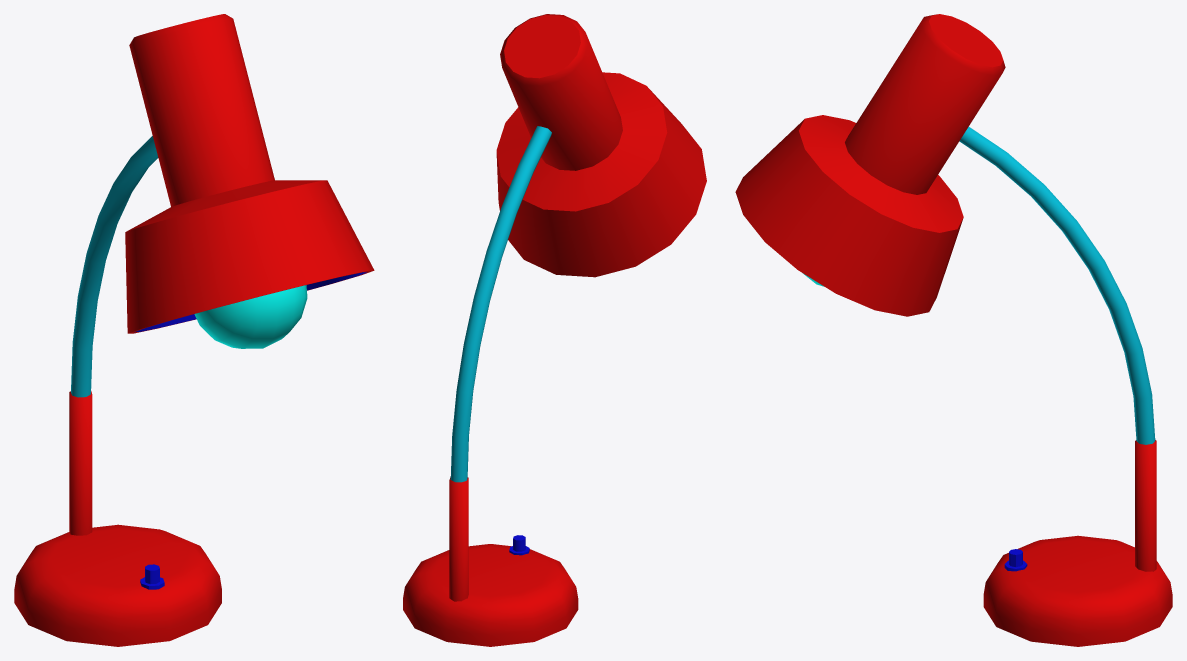
Rendered from desk_lamp.FBX.
3 renders of one model, left to right at view 1: azimuth 30°, elevation 25°; view 2: azimuth 150°, elevation 25°; view 3: azimuth 270°, elevation 25°, orthographic. The views are drawn at different scales.
Visible parts, largest first — view 1: Cylinder001, Light_Bulb001; view 2: Cylinder001; view 3: Cylinder001.
Boxes of the visible parts, <box> form: Cylinder001: <box>14,14,374,646</box>; Light_Bulb001: <box>194,285,307,348</box>; Cylinder001: <box>403,14,706,646</box>; Cylinder001: <box>735,14,1172,646</box>.
Bounding box in the file's own units: 0.1724 × 0.324 × 0.4792.
